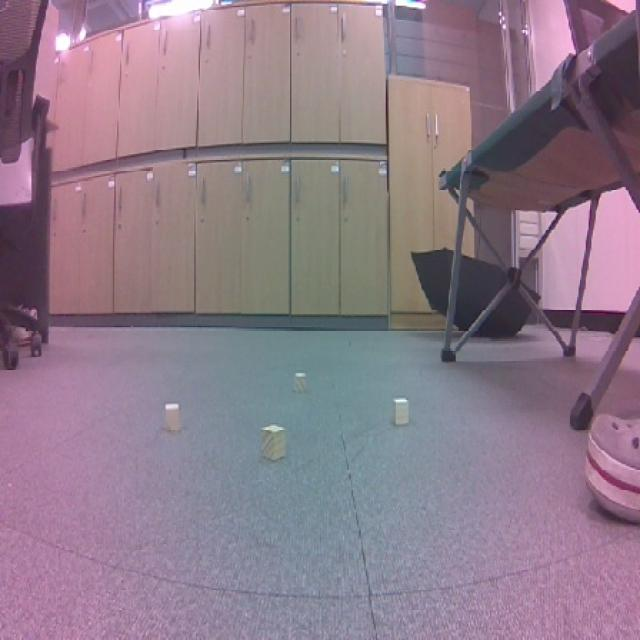obstacle: (258, 423, 292, 465), (390, 394, 417, 429), (161, 400, 184, 434)
